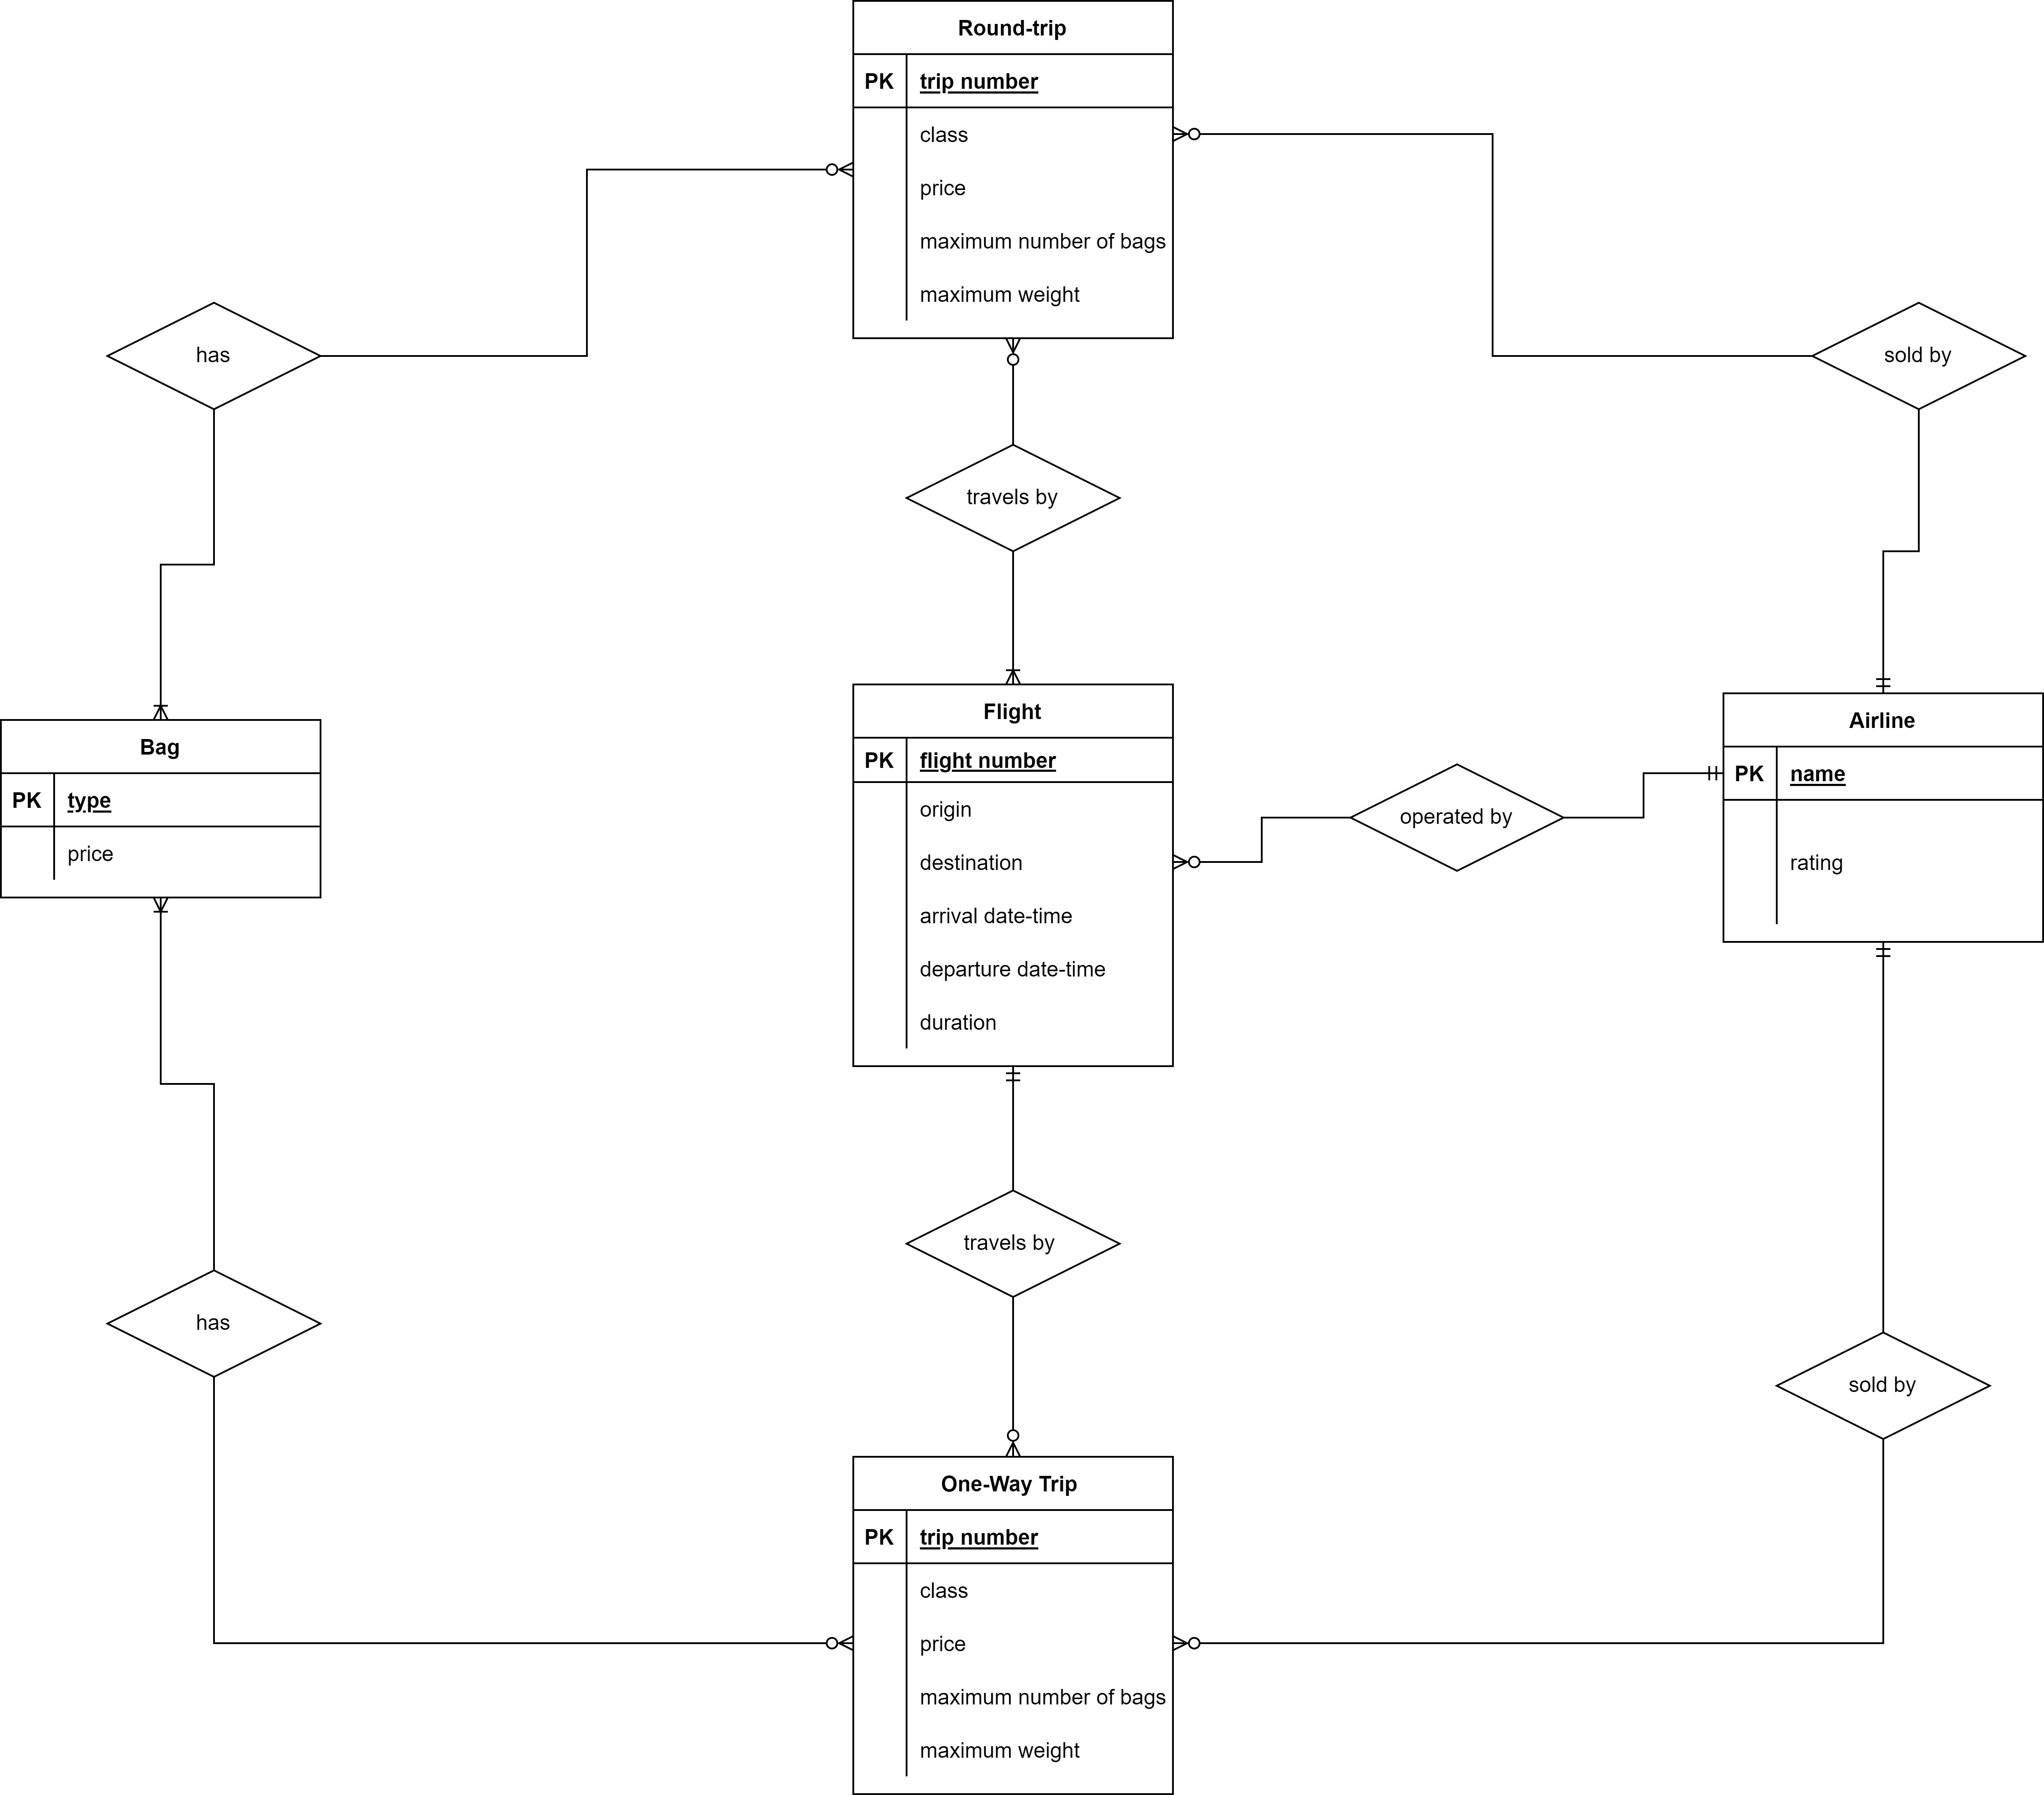entity: (855, 686, 1177, 1067), (850, 1453, 1170, 1795), (853, 2, 1173, 337), (1719, 695, 2044, 945), (3, 723, 325, 902)
many: (782, 1630, 855, 1656), (1173, 1632, 1239, 1653), (1001, 1404, 1025, 1458), (800, 158, 853, 182), (1173, 851, 1224, 876), (1003, 339, 1024, 391), (1171, 125, 1224, 146), (151, 678, 174, 723), (151, 897, 170, 947), (1005, 646, 1020, 688)
one: (1003, 1067, 1025, 1109), (1672, 765, 1722, 782), (1874, 655, 1893, 697), (1874, 944, 1891, 984)
rel: (904, 440, 1121, 553), (1349, 765, 1564, 874), (104, 1272, 320, 1380), (108, 301, 323, 407), (909, 1190, 1123, 1295), (1815, 302, 2025, 407), (1780, 1331, 1988, 1435)
